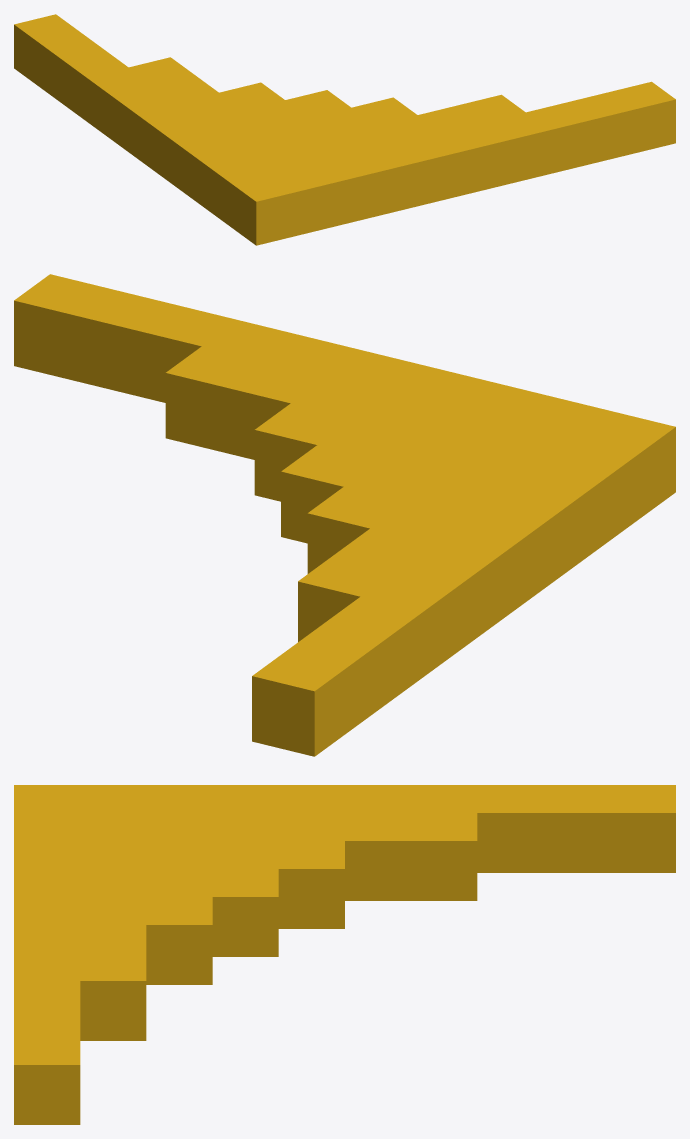
Rendered from grass_curve.obj.
3 renders of one model, top to bottom at view 1: azimuth 30°, elevation 25°; view 2: azimuth 150°, elevation 25°; view 3: azimuth 270°, elevation 25°, orthographic. The views are drawn at different scales.
Bounding box in the file's own units: 1 × 0.1 × 1.
Materials: 1 (1 with a texture image).
